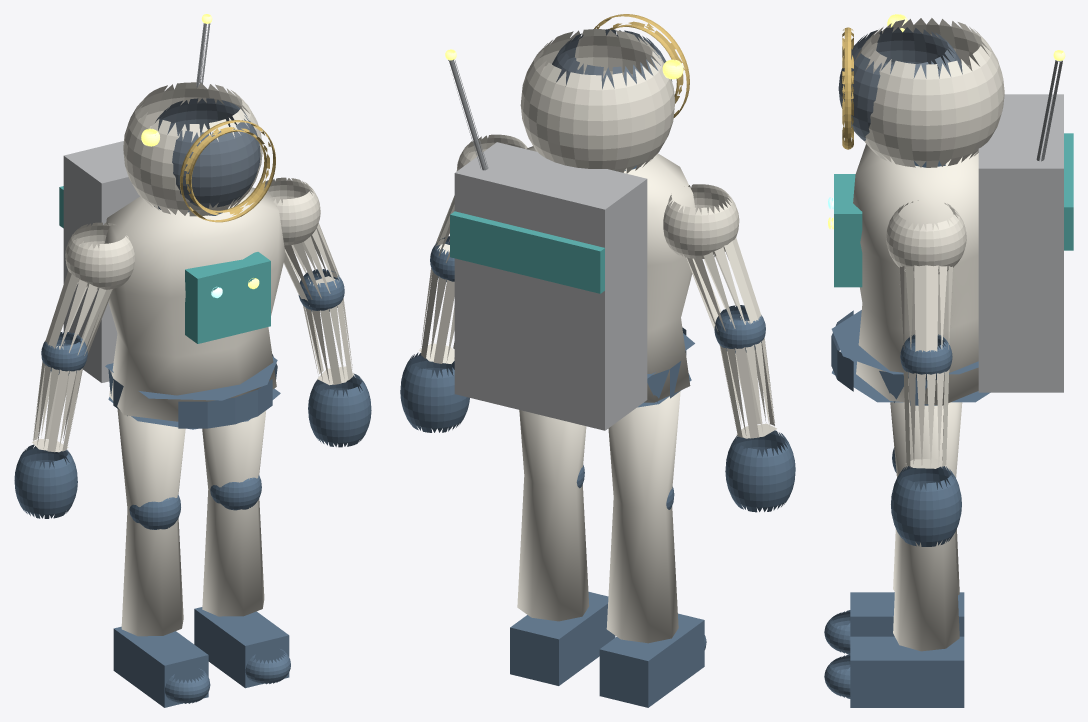
File: spacesuit-display-lod1.glb
3 views of the same model, side by side, from view 1: azimuth 30°, elevation 25°; view 2: azimuth 150°, elevation 25°; view 3: azimuth 270°, elevation 25° (orthographic). The views are drawn at different scales.
Parts seen in each view (by area): view 1: Torso, LegL, LegR, Helmet, Backpack, Visor, ChestPack, BootL, BootR, Belt, GloveL, GloveR (+13 smaller); view 2: Backpack, Helmet, LegL, LegR, Torso, BackpackStripe, BootL, BootR, GloveL, ShoulderL, GloveR, ArmLFore (+9 smaller); view 3: Backpack, Torso, Helmet, LegR, BootR, GloveR, Visor, ShoulderR, Belt, ArmRUpper, ArmRFore, ChestPack (+7 smaller).
Boxes of the visible parts, x1,y1,x2,y2 form: Torso: (104,187,285,421); LegL: (117,409,185,636); LegR: (202,410,266,616); Helmet: (123,82,262,216); Backpack: (63,141,139,382); Visor: (155,98,260,208); ChestPack: (185,252,270,343); BootL: (113,626,208,707); BootR: (194,607,289,688); Belt: (105,354,280,429); GloveL: (14,444,77,518); GloveR: (308,373,371,447); Backpack: (454,142,647,430); Helmet: (520,29,675,173); LegL: (606,391,680,643); LegR: (517,410,589,621); Torso: (526,146,695,402); BackpackStripe: (450,211,604,293); BootL: (599,613,704,707); BootR: (510,591,615,685); GloveL: (725,430,795,512); ShoulderL: (663,184,739,258); GloveR: (400,352,469,432); ArmLFore: (719,320,776,438); Backpack: (978,94,1063,392); Torso: (853,144,978,405); Helmet: (854,18,1004,167); LegR: (890,402,962,651); BootR: (850,636,964,707); GloveR: (891,466,961,546); Visor: (838,27,962,141); ShoulderR: (886,200,966,274); Belt: (831,310,990,405); ArmRUpper: (899,265,952,351); ArmRFore: (903,369,949,468); ChestPack: (834,174,862,287).
Bounding box in the file's own units: 0.95 × 1.54 × 0.525.
